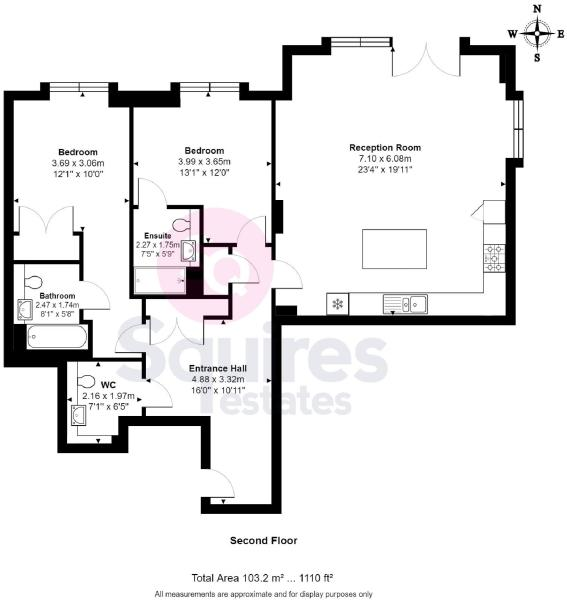GrossArea: (189, 568, 338, 584)
